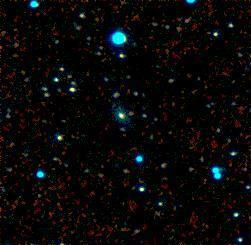star: (116, 97, 146, 127)
